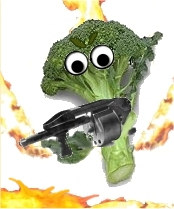broccoli: (40, 20, 165, 187)
